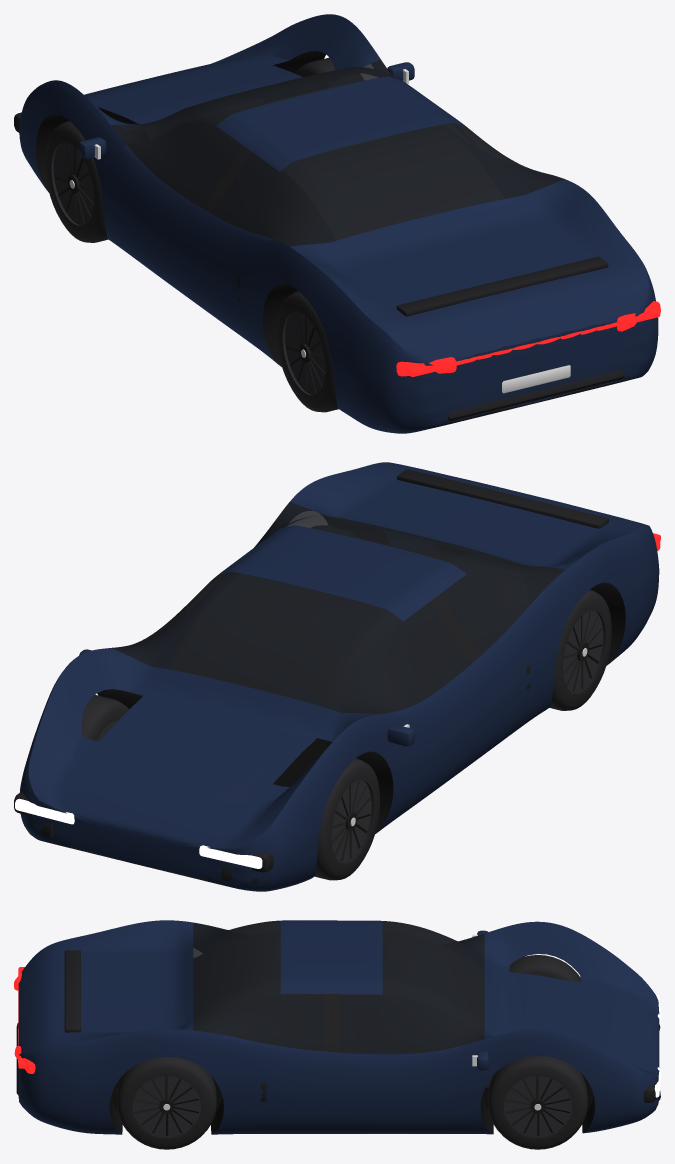
The model's file is rimac_nevera.glb.
3 views of the same model, one above another, from view 1: azimuth 30°, elevation 25°; view 2: azimuth 150°, elevation 25°; view 3: azimuth 270°, elevation 25° (orthographic). The views are drawn at different scales.
Visible parts, largest first — view 1: Body, Wheel_RL, Wheel_FL; view 2: Body, Wheel_FL, Wheel_RL, Wheel_FR; view 3: Body, Wheel_FR, Wheel_RR, Wheel_FL.
Boxes of the visible parts, <box> form: Body: <box>14,14,660,433</box>; Wheel_RL: <box>276,291,338,412</box>; Wheel_FL: <box>45,121,108,242</box>; Body: <box>14,462,660,891</box>; Wheel_FL: <box>314,758,380,880</box>; Wheel_RL: <box>549,589,611,710</box>; Wheel_FR: <box>81,695,128,741</box>; Body: <box>14,920,660,1134</box>; Wheel_FR: <box>488,1056,587,1149</box>; Wheel_RR: <box>117,1057,216,1149</box>; Wheel_FL: <box>509,955,580,982</box>.
Bounding box in the file's own units: 2.28 × 1.21 × 4.79.
